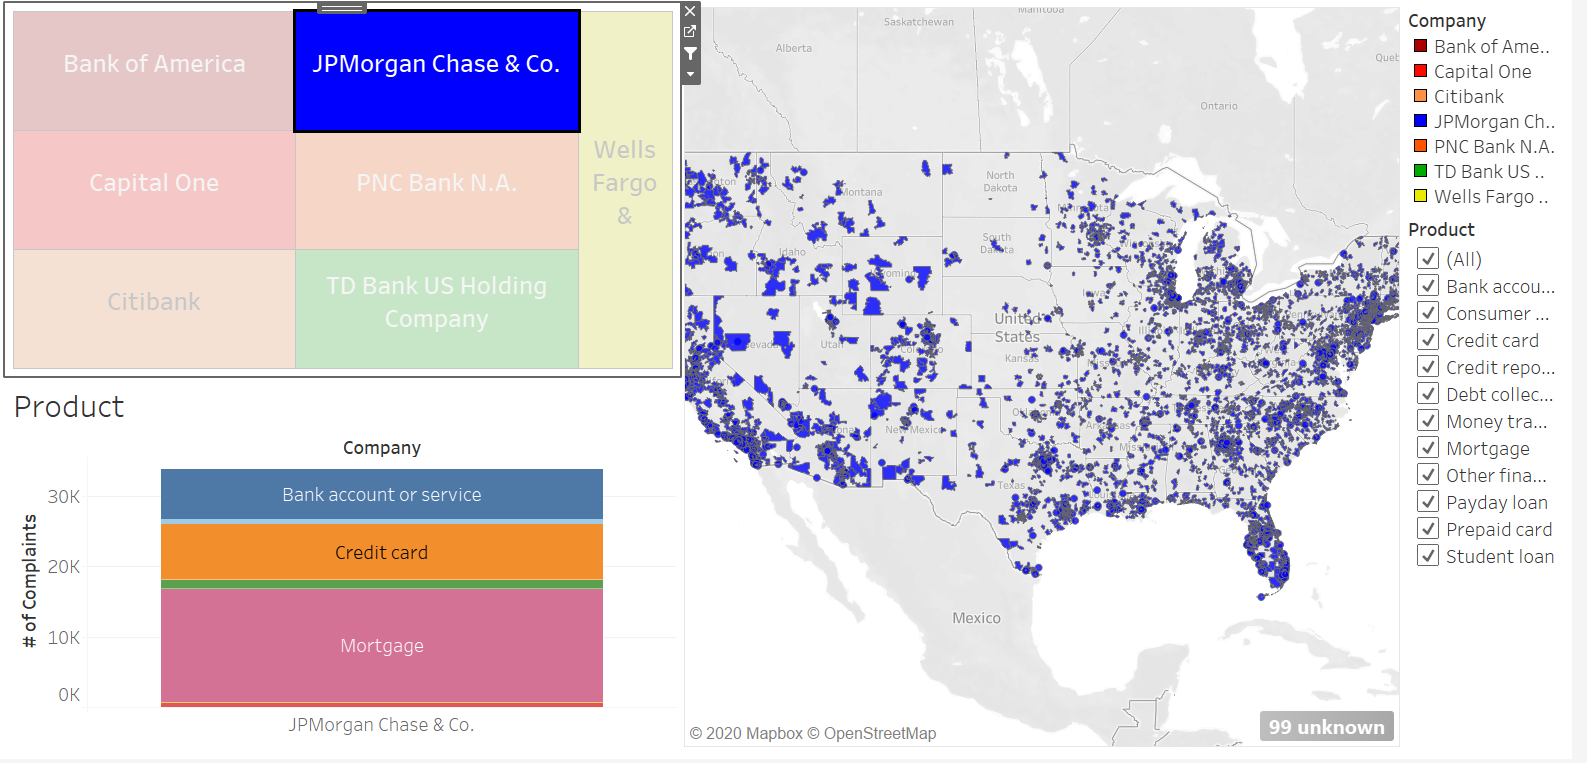

Layout of this report page (visuals, bound fields, positions):
{"tool":"tableau","page":{"name":"Dashboard 1","canvas":[1000,1000],"units":"permille","ordinal":0},"visuals":[{"type":"worksheet","title":"Banks","mark":"Automatic","box":[5.1,10.5,428.6,488.2]},{"type":"worksheet","title":"State map","mark":"Multipolygon","box":[433.7,10.5,459.7,979.1]},{"type":"legend","title":"Banks","param":"[federated.0g799zd1b8lb1p19bwwzn196hffh].[none:Company:nk]","box":[893.3,10.5,101.6,273.6]},{"type":"filter","title":"Product","param":"[federated.0g799zd1b8lb1p19bwwzn196hffh].[none:Product:nk]","box":[893.3,284,101.6,476.4]},{"type":"worksheet","title":"Product","mark":"Automatic","rows":["complaint_id"],"cols":["Company"],"box":[5.1,498.7,428.6,490.8]}]}

Visuals, with their boxes on the dashboard's canvas, which has no fixed pixel size, in thousandths of its width and height (x1, y1, x2, y2). These are canvas units, not pixel positions in the 1587x763 screenshot, which may show the page scaled, cropped or inside an application window:
"Banks" worksheet: bbox=(5, 10, 434, 499)
"State map" worksheet (Multipolygon marks): bbox=(434, 10, 893, 990)
"Banks" legend: bbox=(893, 10, 995, 284)
"Product" filter: bbox=(893, 284, 995, 760)
"Product" worksheet: bbox=(5, 499, 434, 990)
